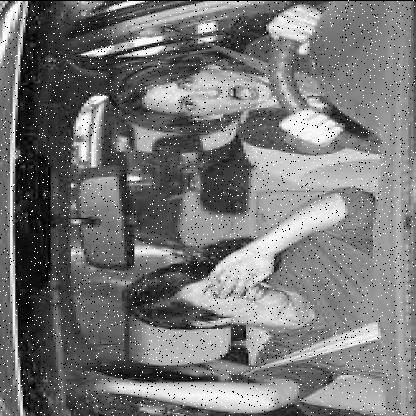seatbelt: (120, 250, 416, 394), (103, 31, 334, 156)
